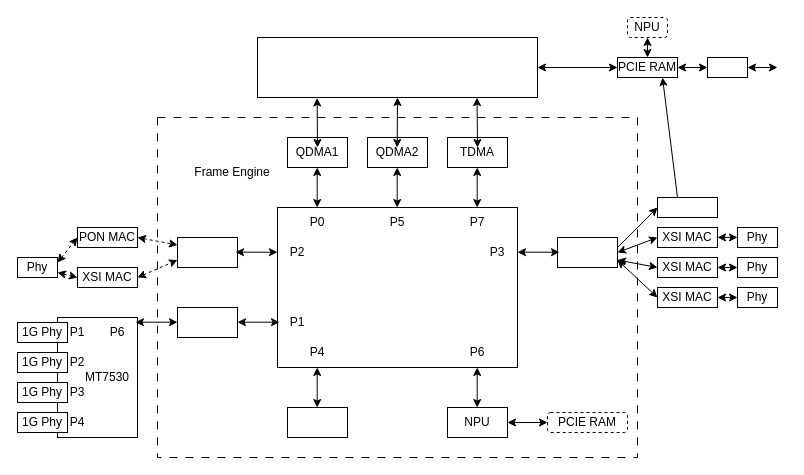
This 804x475 diagram has some shape labels left out. Here are the shapes that lost their labels. From the top down, the box of each, then its label:
(256, 36, 538, 98): CPU
(706, 56, 748, 78): PCIE
(656, 196, 718, 218): WED
(176, 236, 238, 268): GDM2
(556, 236, 618, 268): GDM3
(276, 206, 518, 368): PSE
(176, 306, 238, 338): GDM1
(286, 406, 348, 438): PPE1
